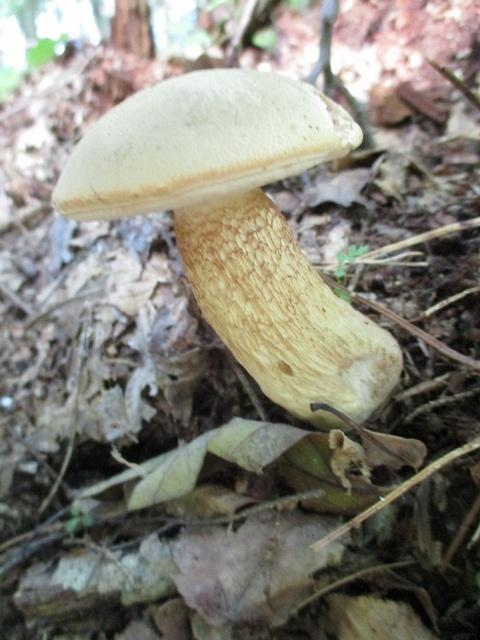Non-edible Mushroom: (50, 65, 405, 435)
